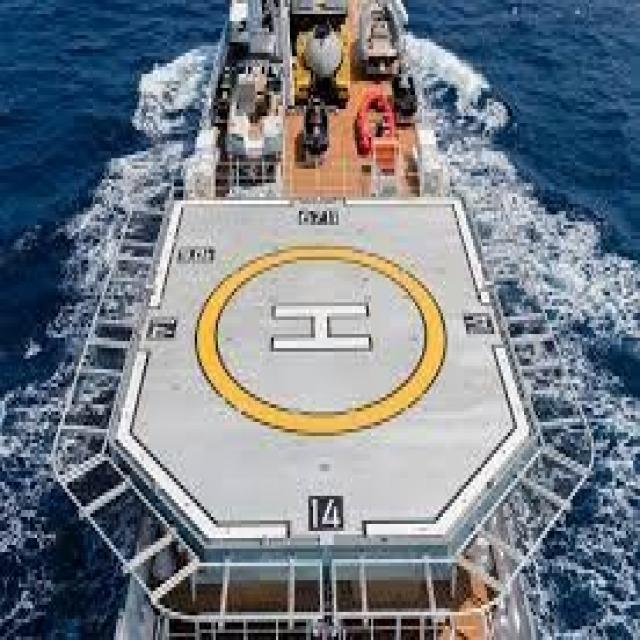helipad: (185, 236, 450, 436)
